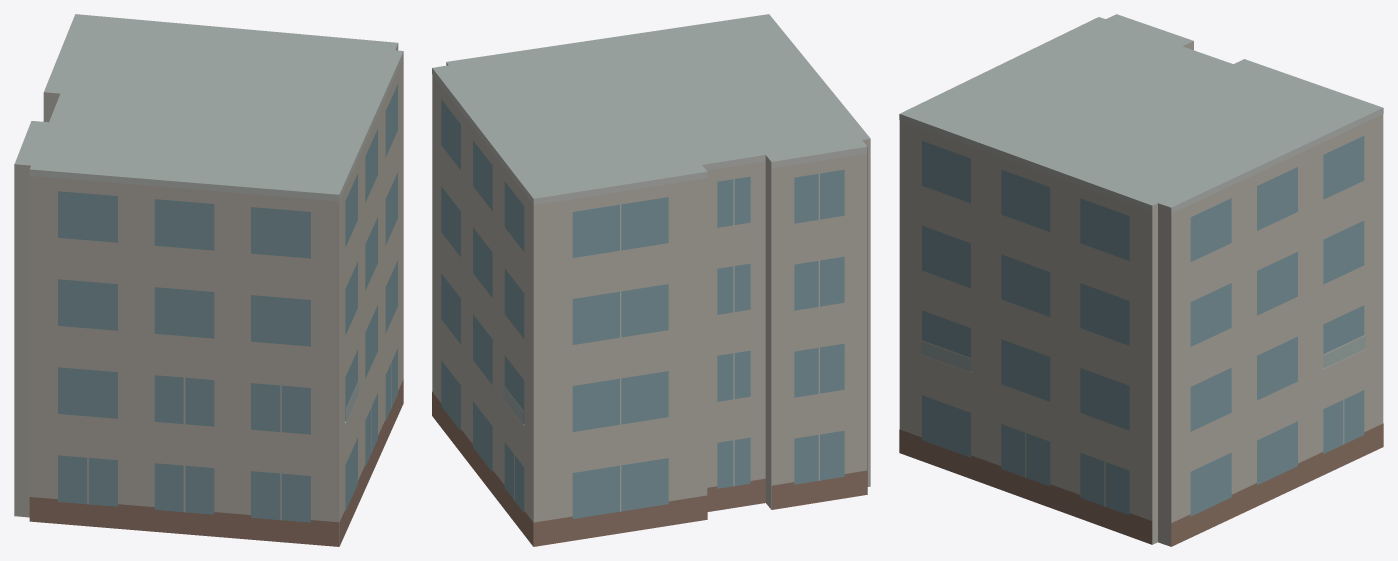
The model's file is survey-upis-32655707.glb.
3 views of the same model, side by side, from view 1: azimuth 30°, elevation 25°; view 2: azimuth 150°, elevation 25°; view 3: azimuth 270°, elevation 25° (orthographic). The views are drawn at different scales.
Visible parts, largest first — view 1: survey-upis-32655707.tmp; view 2: survey-upis-32655707.tmp; view 3: survey-upis-32655707.tmp.
Boxes of the visible parts, left/top/right/bottom form: survey-upis-32655707.tmp: left=14, top=14, right=403, bottom=546; survey-upis-32655707.tmp: left=432, top=14, right=870, bottom=546; survey-upis-32655707.tmp: left=899, top=14, right=1383, bottom=546.
Bounding box in the file's own units: 16.3 × 13.3 × 17.21.
